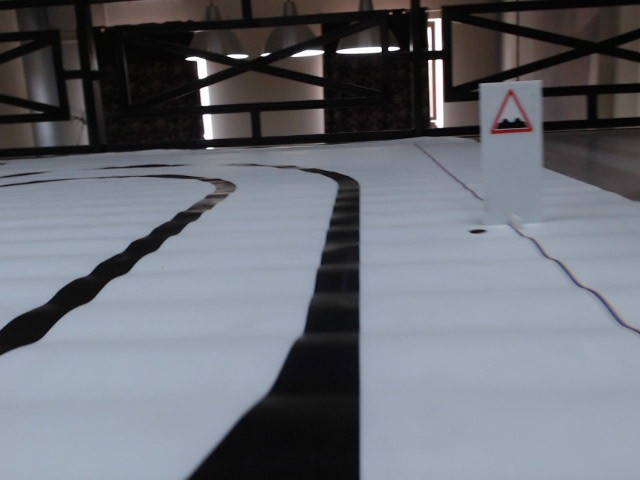Nerov: (491, 88, 539, 137)
